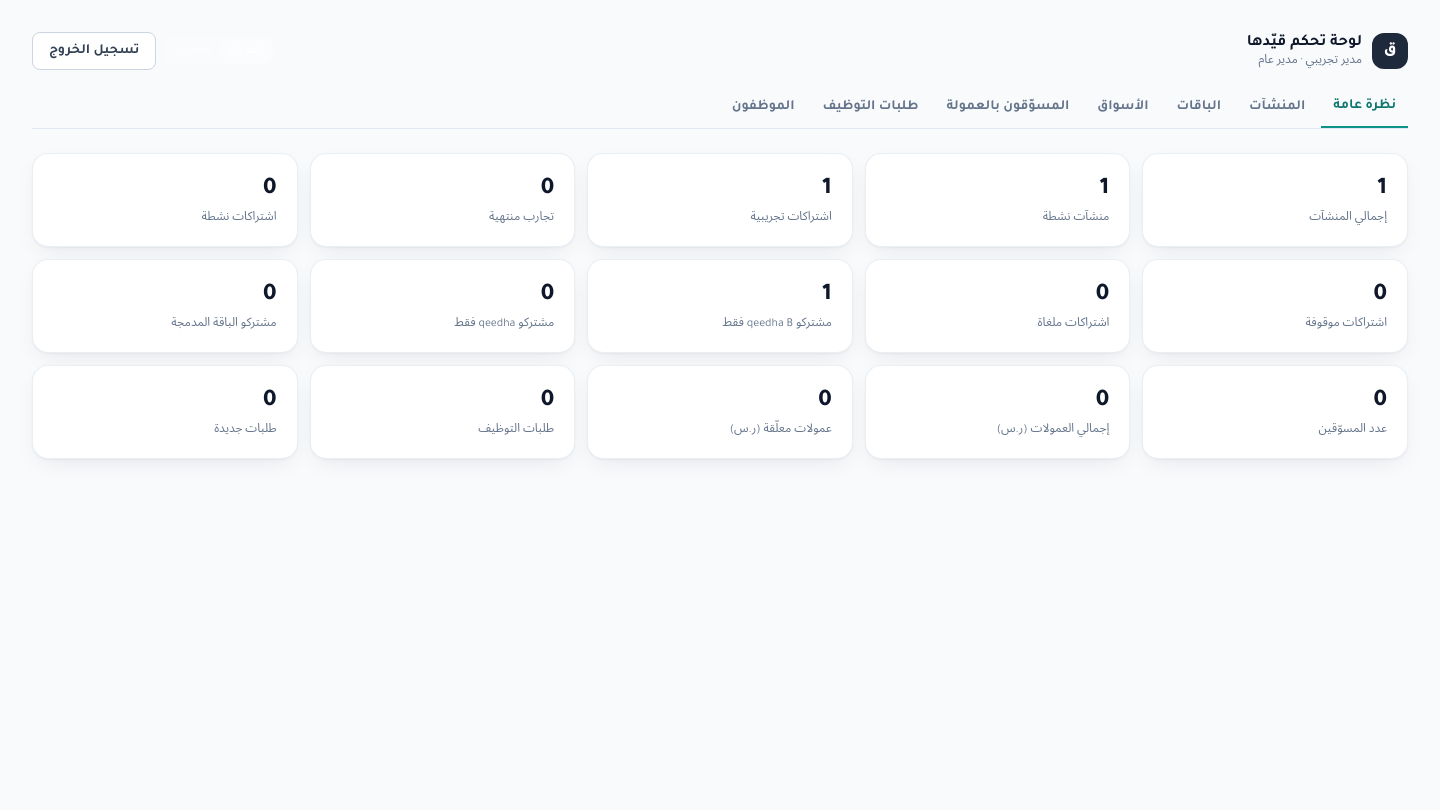
Scenario: AdminDashboardPage › creates a merchant company and shows the owner credentials to hand off
The width and height of the screenshot is (1440, 810).
Click the button "المنشآت": point(1277, 107) x1=1237 y1=86 x2=1317 y2=128
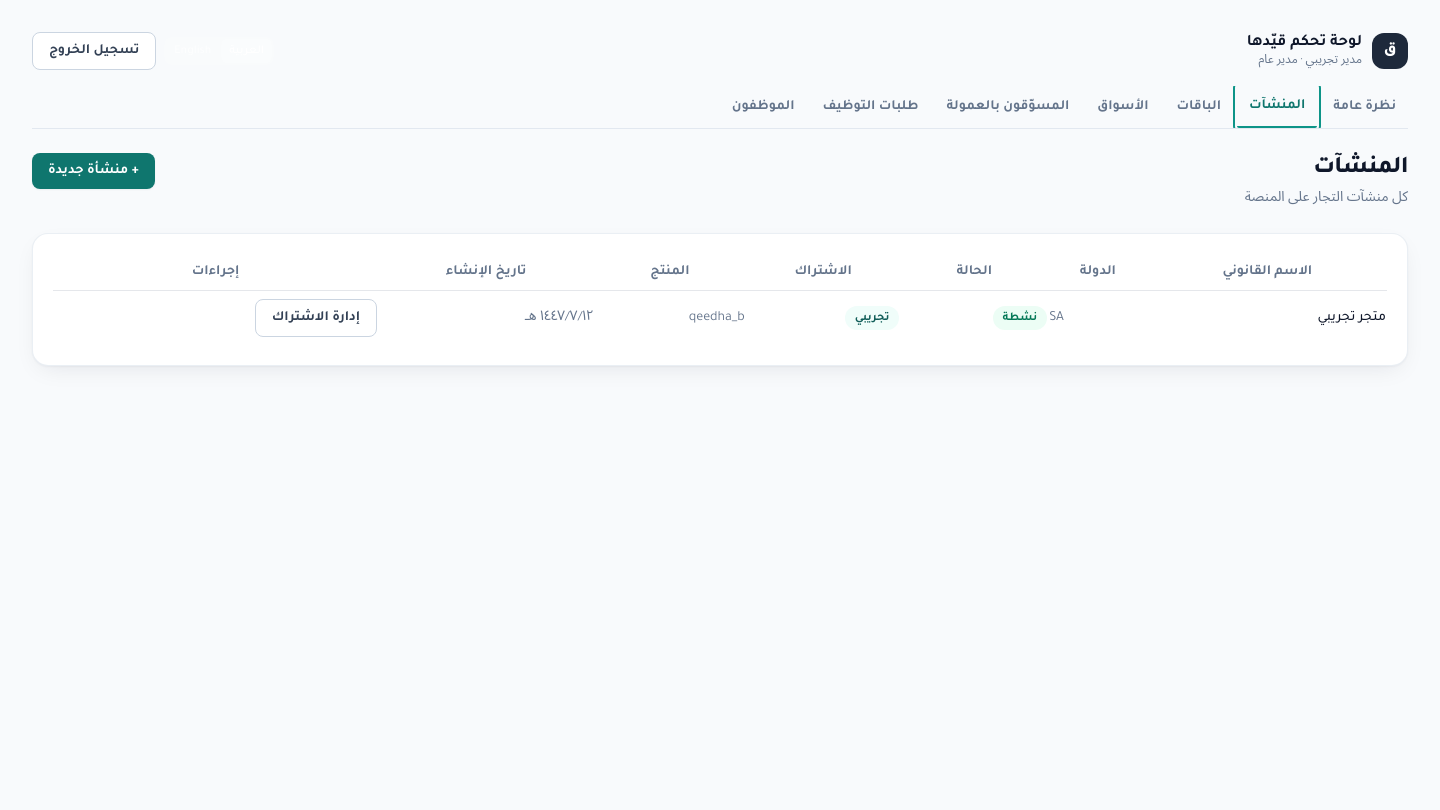
Result: the text "متجر تجريبي" is shown at x1=1148 y1=290 x2=1387 y2=345
Click the button "+ منشأة جديدة": point(93, 171) x1=32 y1=153 x2=155 y2=189
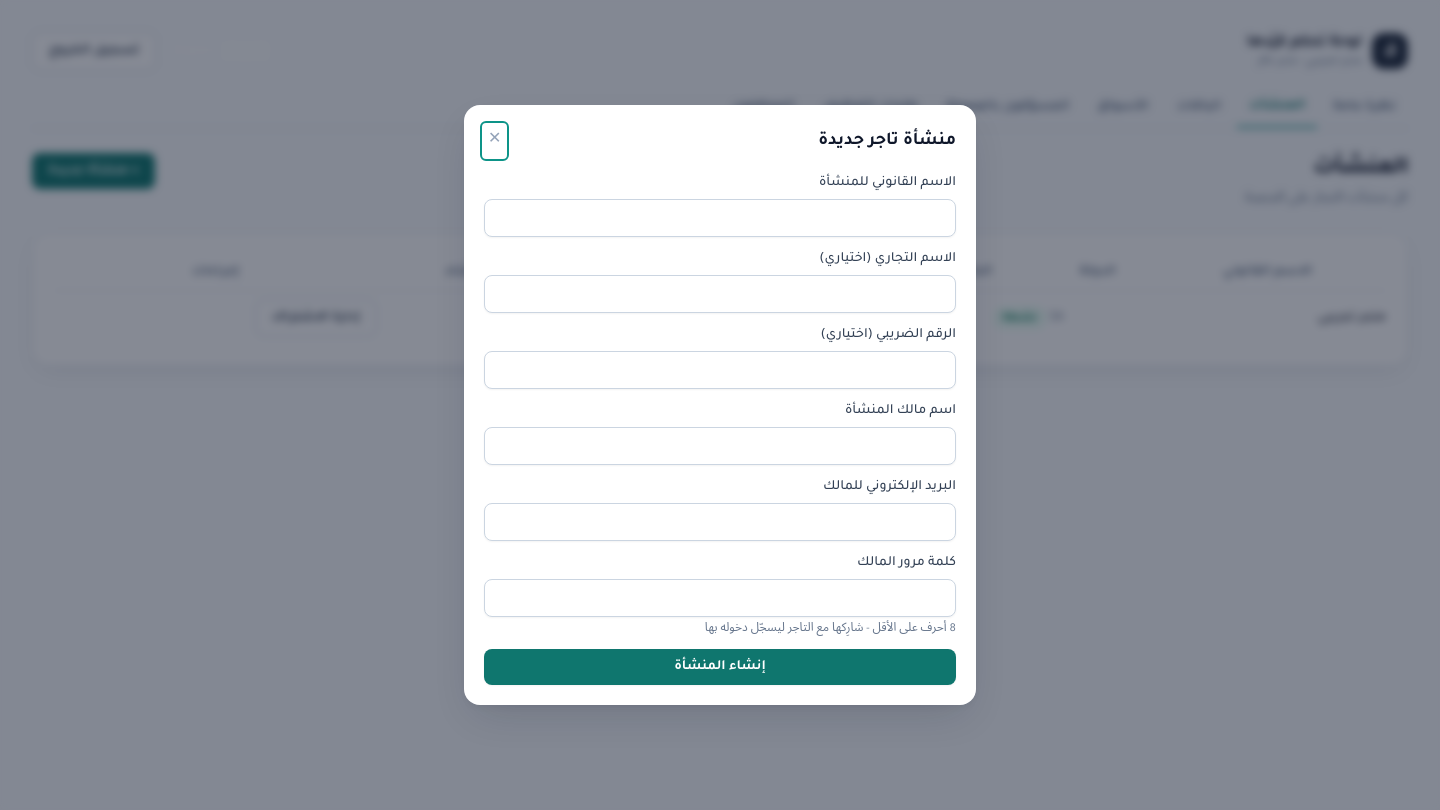
In the field labelled "الاسم القانوني للمنشأة": point(720, 218) x1=484 y1=199 x2=956 y2=237, type "متجر جديد"
In the field labelled "اسم مالك المنشأة": point(720, 446) x1=484 y1=427 x2=956 y2=465, type "مالك جديد"
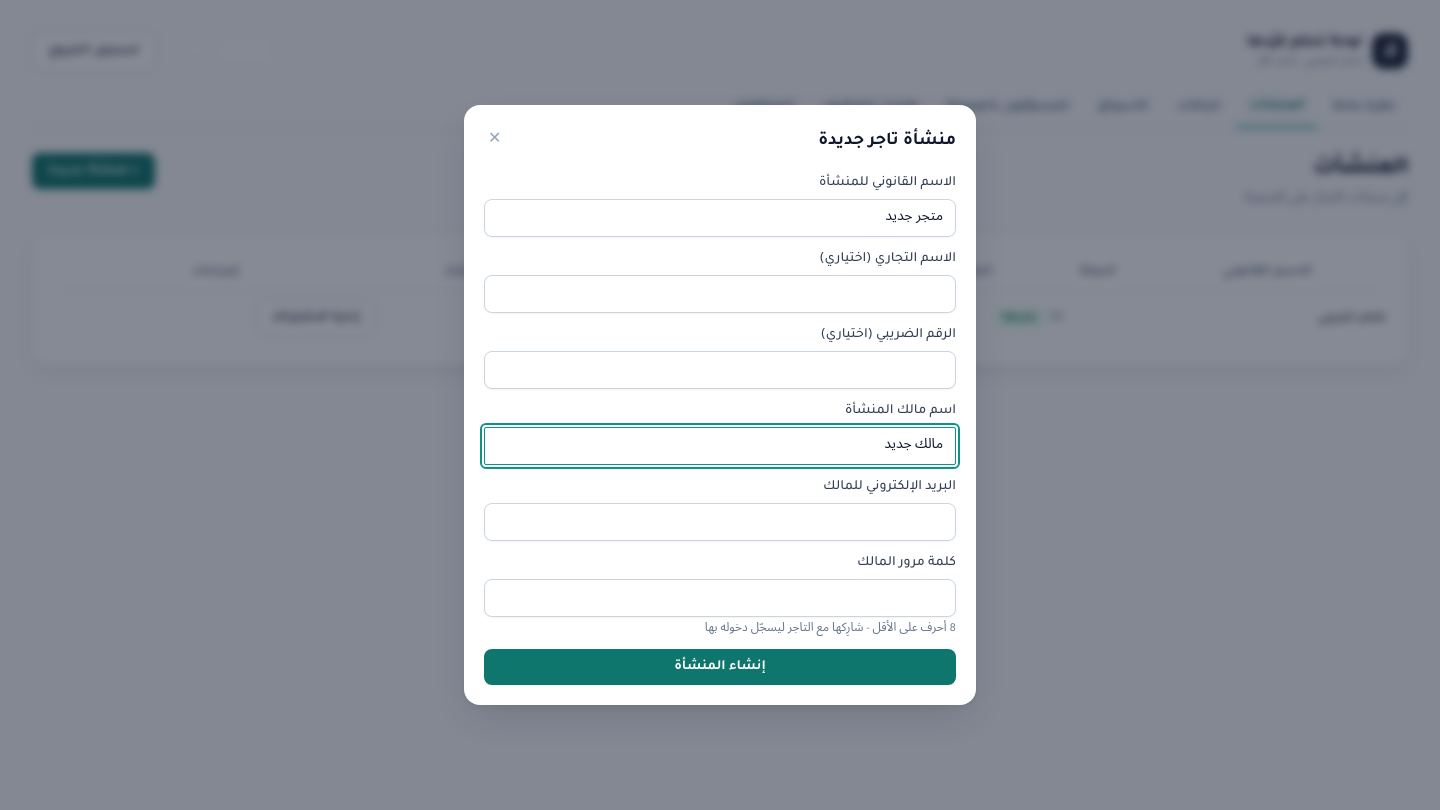
In the field labelled "البريد الإلكتروني للمالك": point(720, 522) x1=484 y1=503 x2=956 y2=541, type "owner2@test.local"
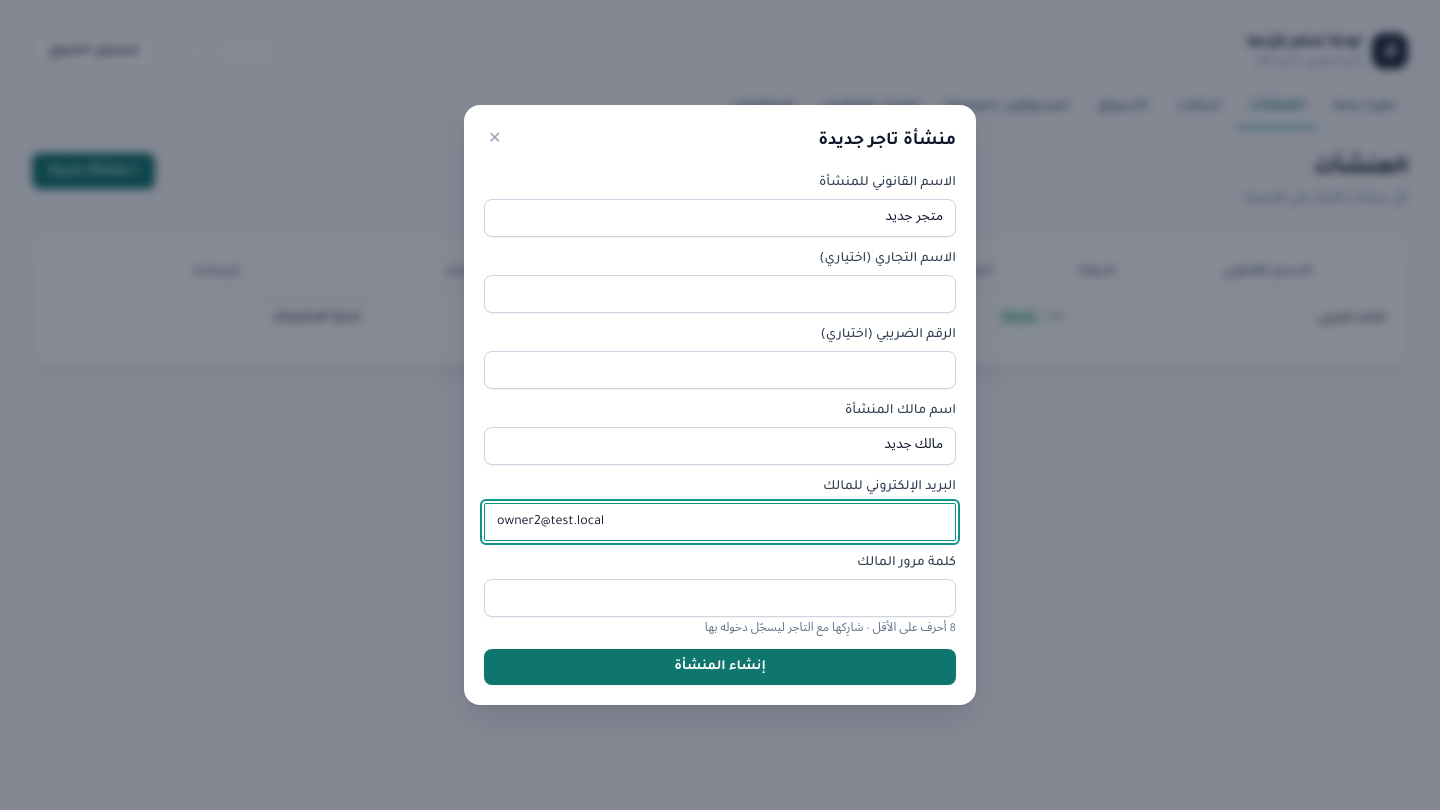
In the password field labelled "كلمة مرور المالك": point(720, 598) x1=484 y1=579 x2=956 y2=617, type "OwnerPassword123"
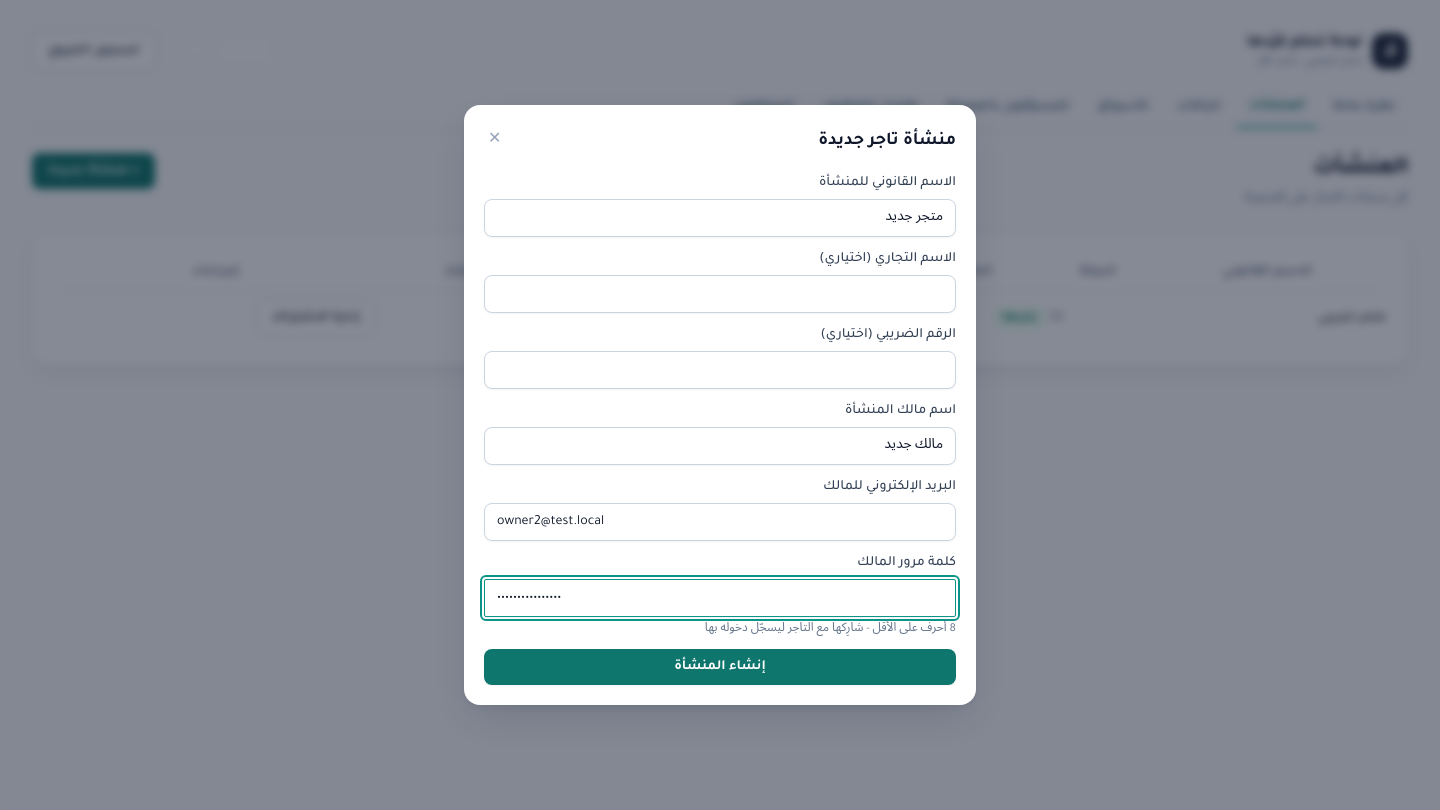
Click the button "إنشاء المنشأة": point(720, 667) x1=484 y1=649 x2=956 y2=685
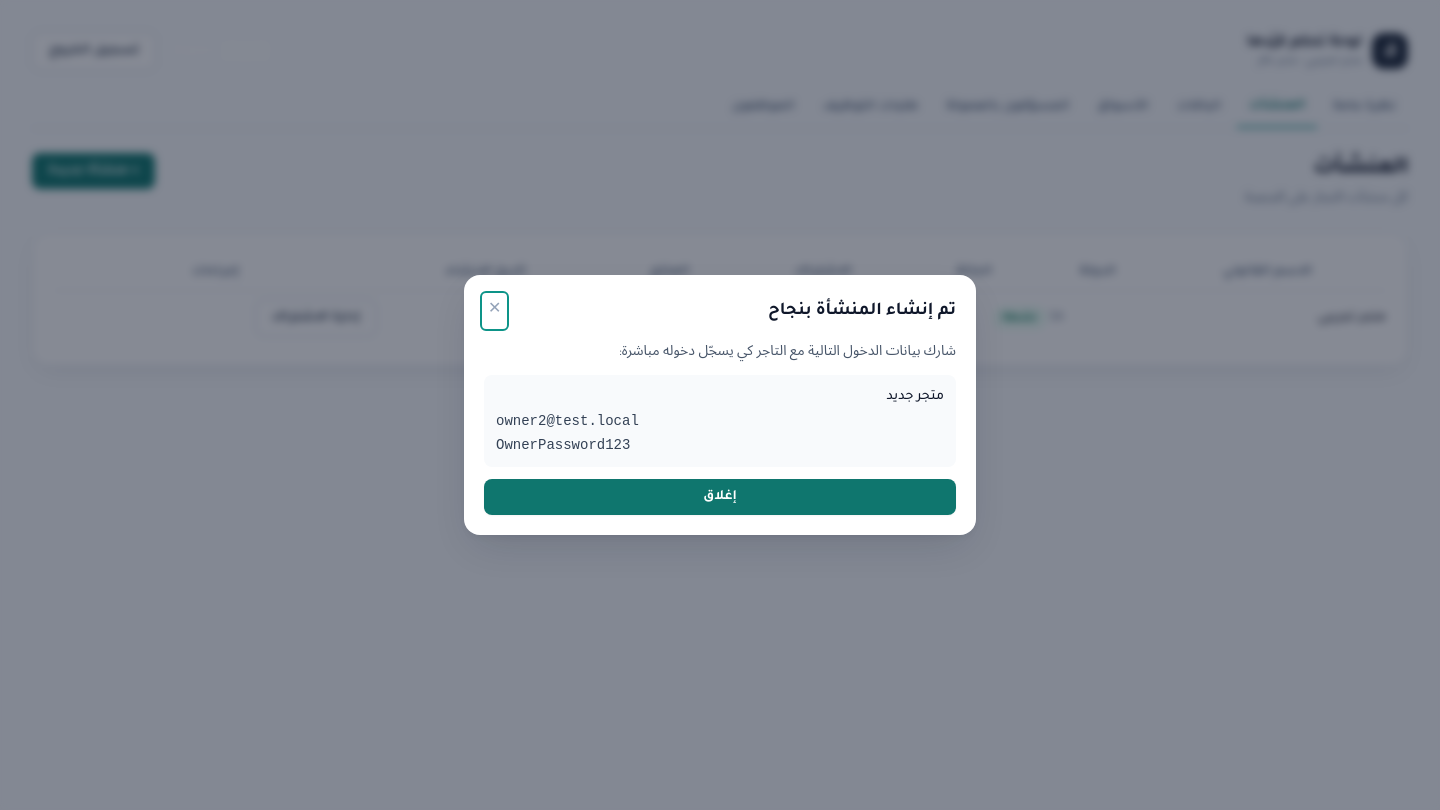
Result: the text "owner2@test.local" is shown at x1=496 y1=413 x2=639 y2=429
Result: the text "OwnerPassword123" is shown at x1=496 y1=437 x2=630 y2=453
